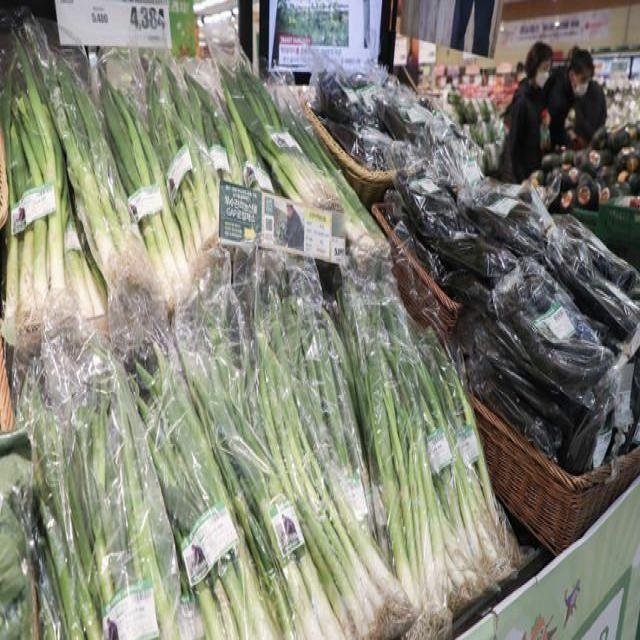green_onion: (176, 344, 358, 637), (342, 289, 465, 621), (37, 54, 178, 307), (145, 59, 245, 278), (227, 73, 351, 230)
